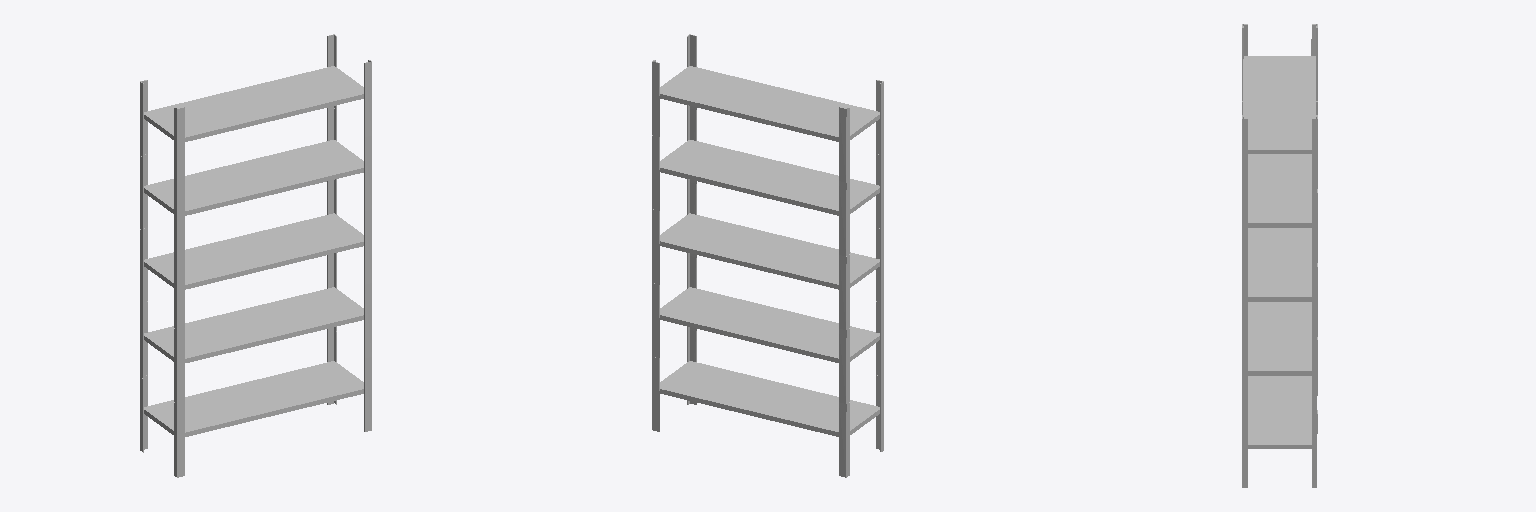
File: Metal Rack.obj
The picture shows the model from 3 angles: view 1: azimuth 30°, elevation 25°; view 2: azimuth 150°, elevation 25°; view 3: azimuth 270°, elevation 25°; orthographic projection.
Visible parts, largest first — view 1: Cube; view 2: Cube; view 3: Cube.
Part boxes in pixels (bbox=[...]): Cube: bbox=[140, 34, 371, 477]; Cube: bbox=[652, 34, 883, 477]; Cube: bbox=[1242, 24, 1317, 487].
Size of the model in its own units: 1.87 by 3.37 by 0.6264.